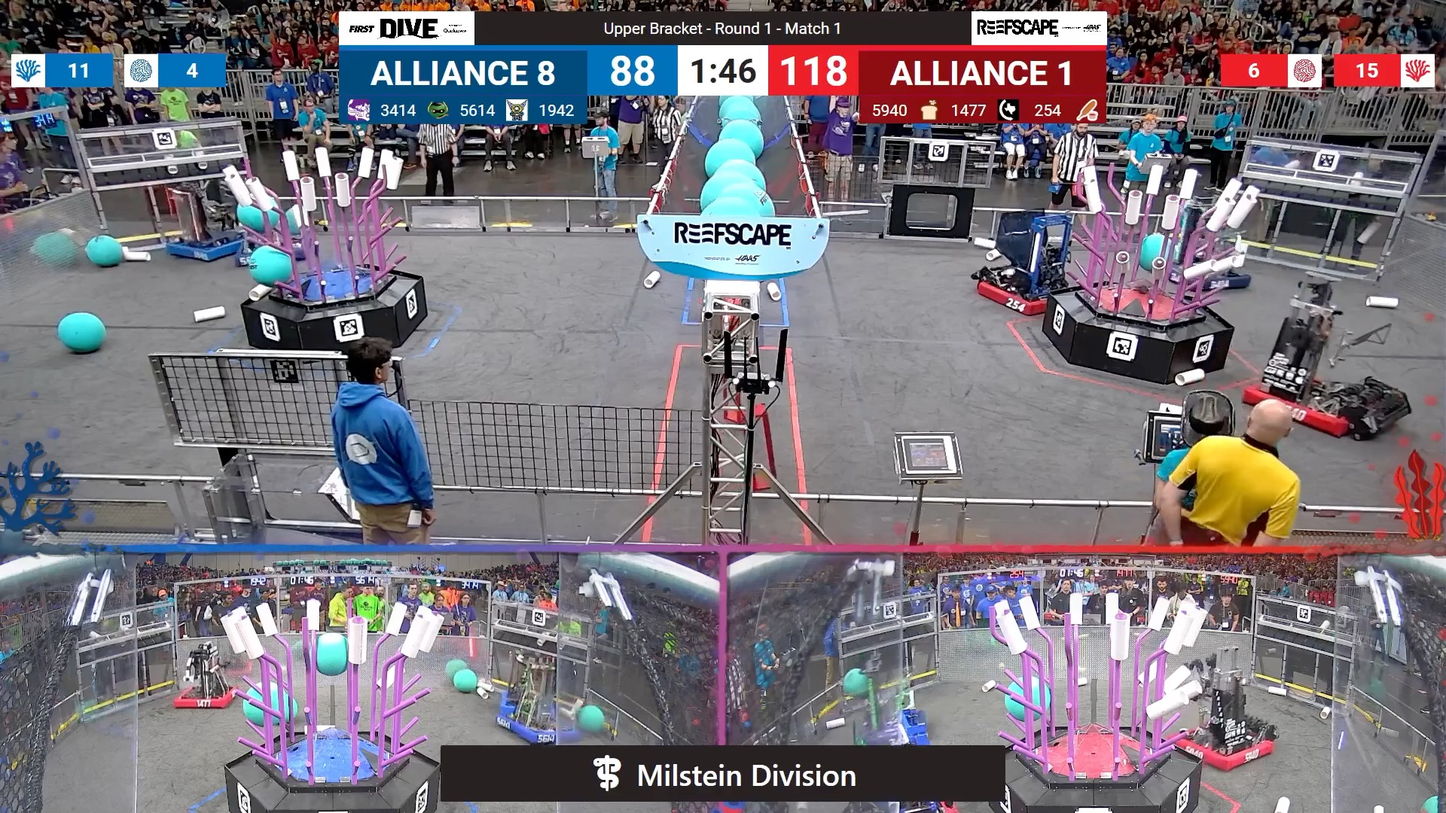bumpers: (1236, 376, 1403, 450), (1164, 722, 1286, 772), (969, 270, 1075, 318), (487, 703, 583, 748), (159, 234, 263, 271), (1154, 266, 1254, 295), (167, 681, 244, 715)
